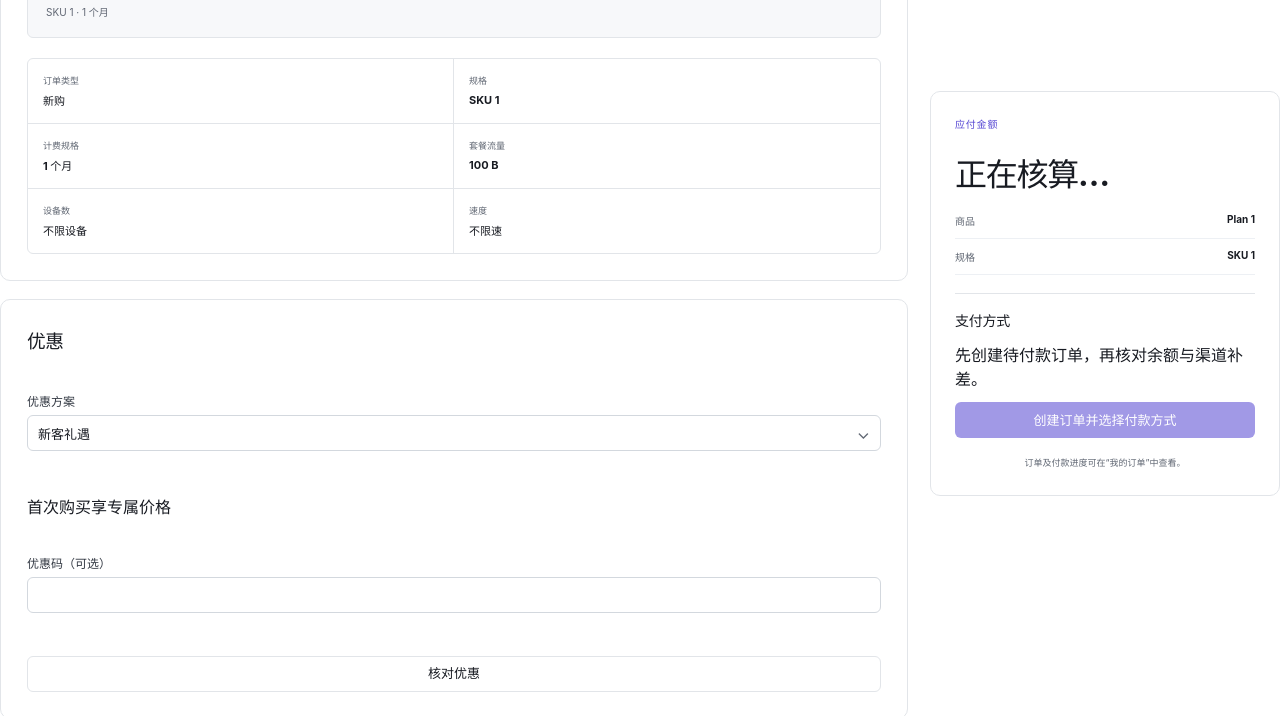
Test case: account catalog bounded reads and route isolation › confirms recurring purchase scope from the actual quote and explains locked base rather than a fixed discount
The image size is (1280, 716).
(page scrolled)
In the field labelled "优惠码（可选）": (454,595) x1=27 y1=577 x2=881 y2=613, type "WELCOME"
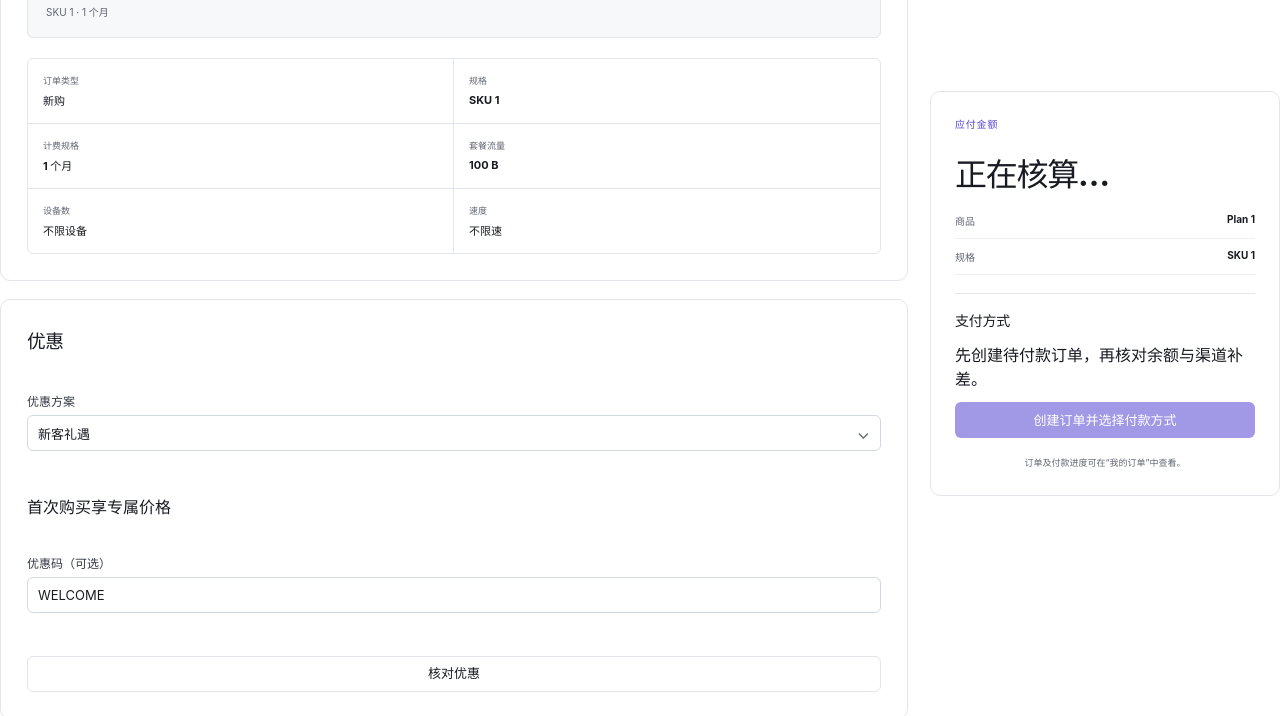
Expected: the text "长期优惠约定：" is not shown
Click the button "核对优惠": (454,674) x1=27 y1=656 x2=881 y2=692
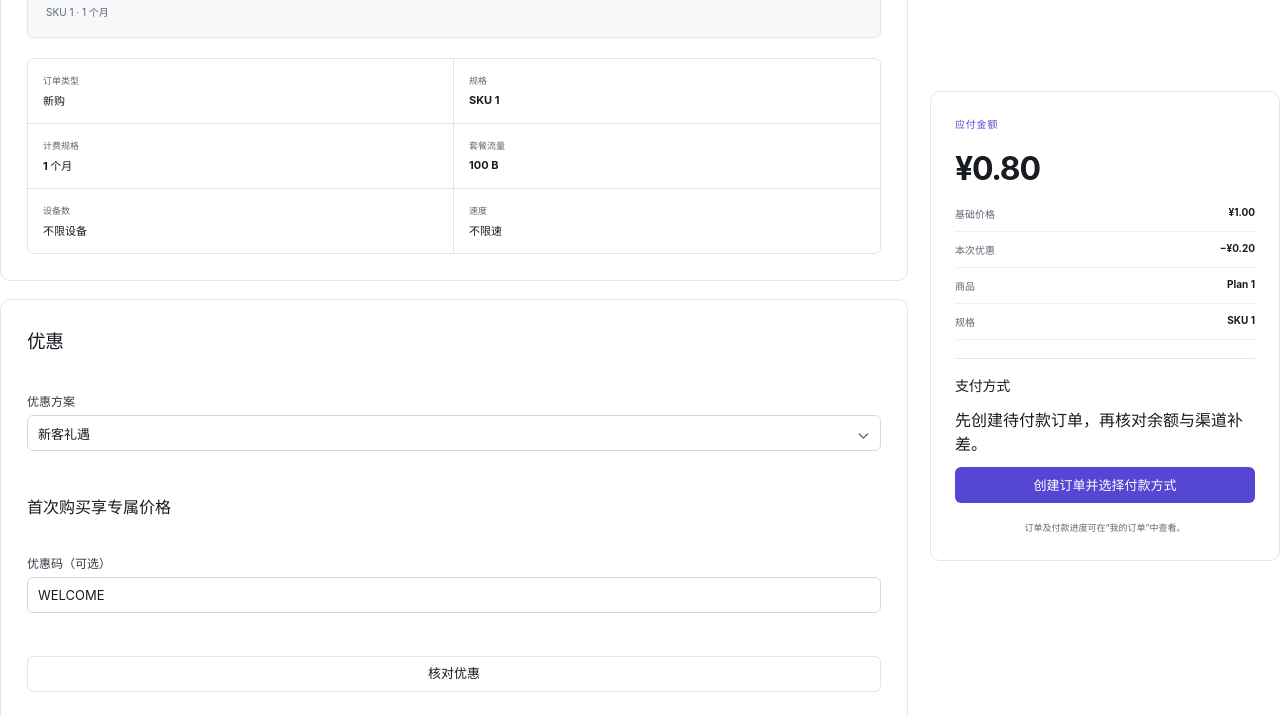
Click the button "创建订单并选择付款方式": (1105,485) x1=955 y1=467 x2=1255 y2=503
(page scrolled)
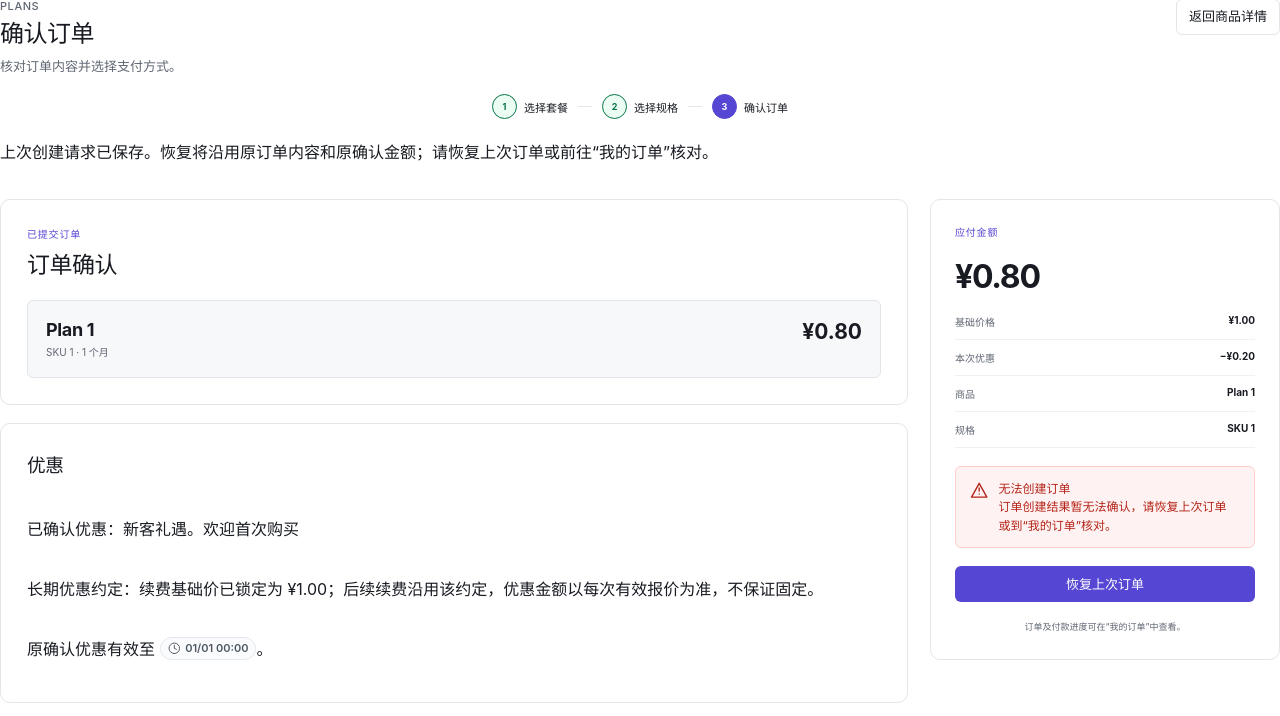
Now the text "长期优惠约定：续费基础价已锁定为 ¥1.00" is shown, box x1=27 y1=579 x2=823 y2=599
Now the text "原确认优惠有效至" is shown, box x1=27 y1=639 x2=160 y2=659
